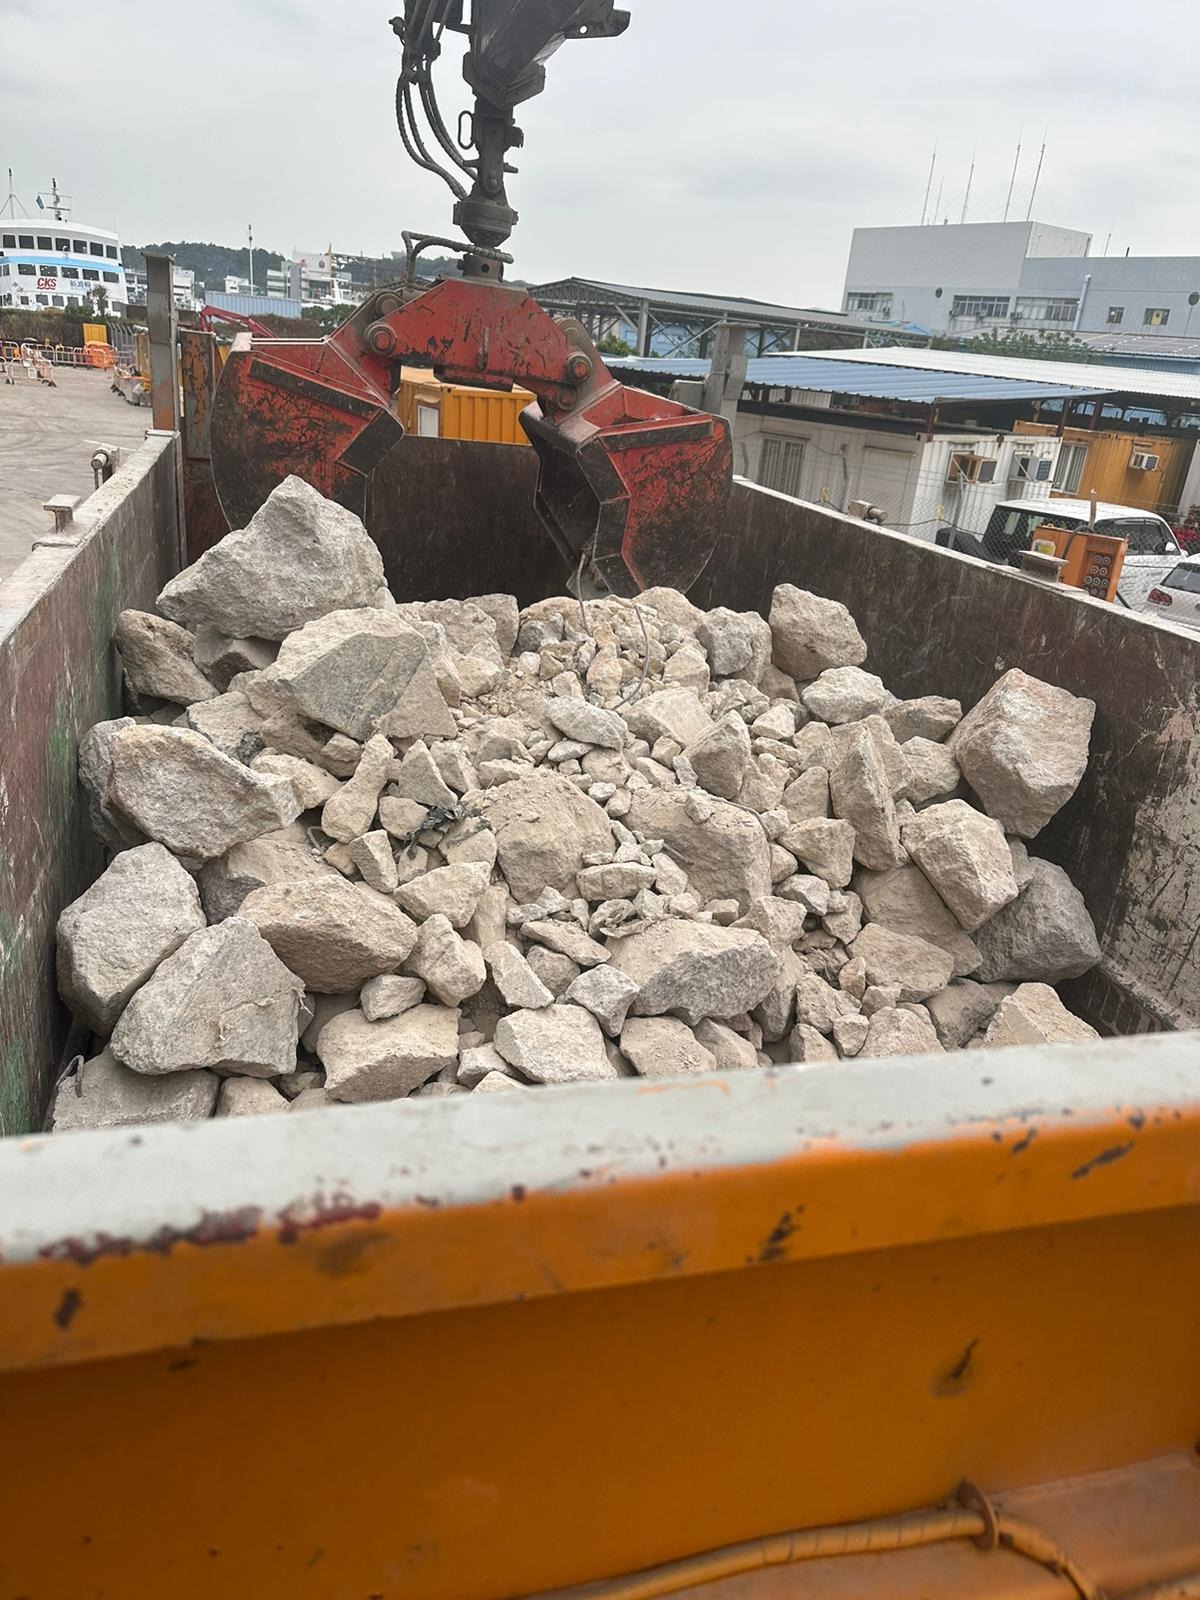dry: (110, 523, 1073, 1117)
